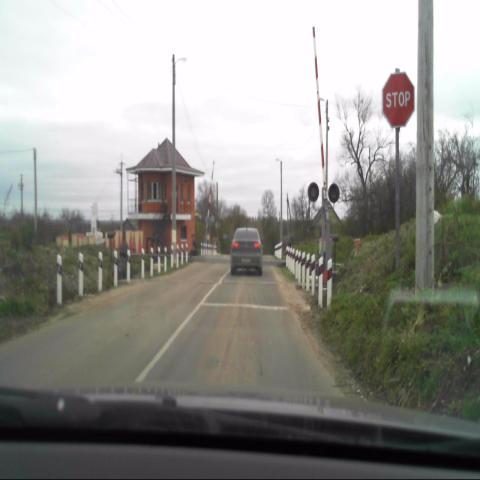2_5: (382, 73, 415, 131)
